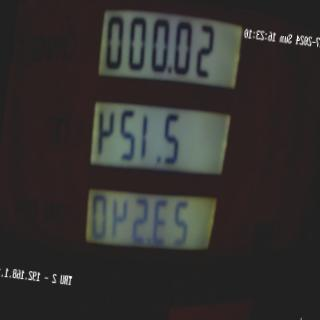screen: (65, 0, 249, 293)
